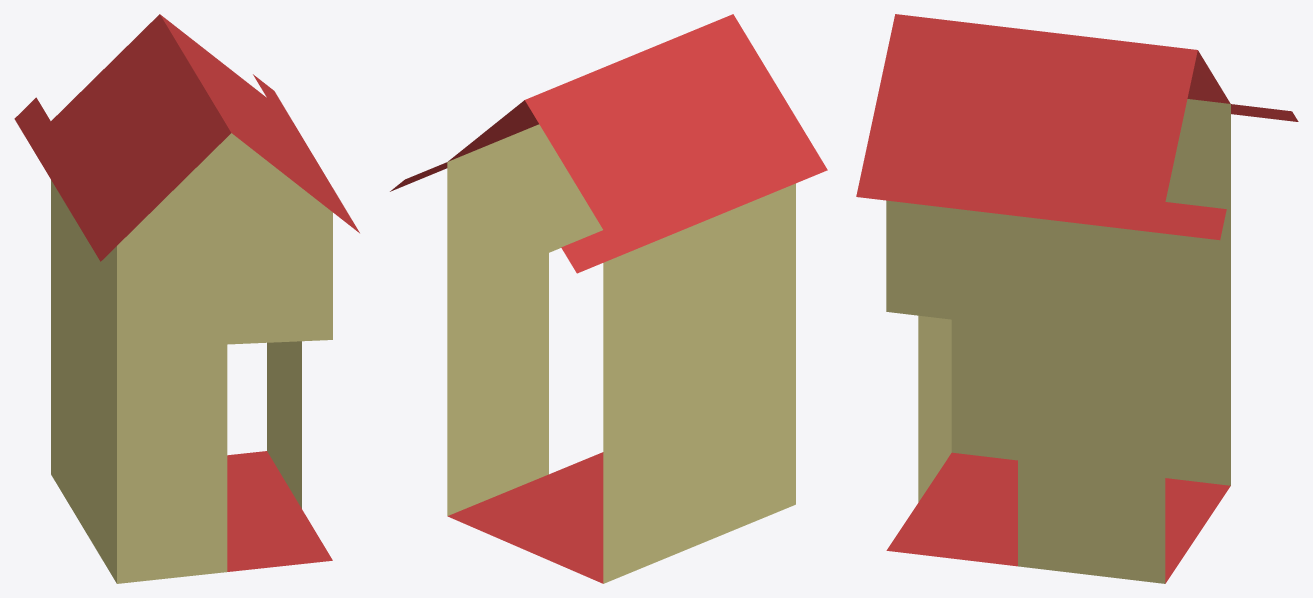
3 renders of one model, left to right at view 1: azimuth 30°, elevation 25°; view 2: azimuth 150°, elevation 25°; view 3: azimuth 270°, elevation 25°, orthographic. The views are drawn at different scales.
Bounding box in the file's own units: 11.7 × 13.56 × 16.4.
